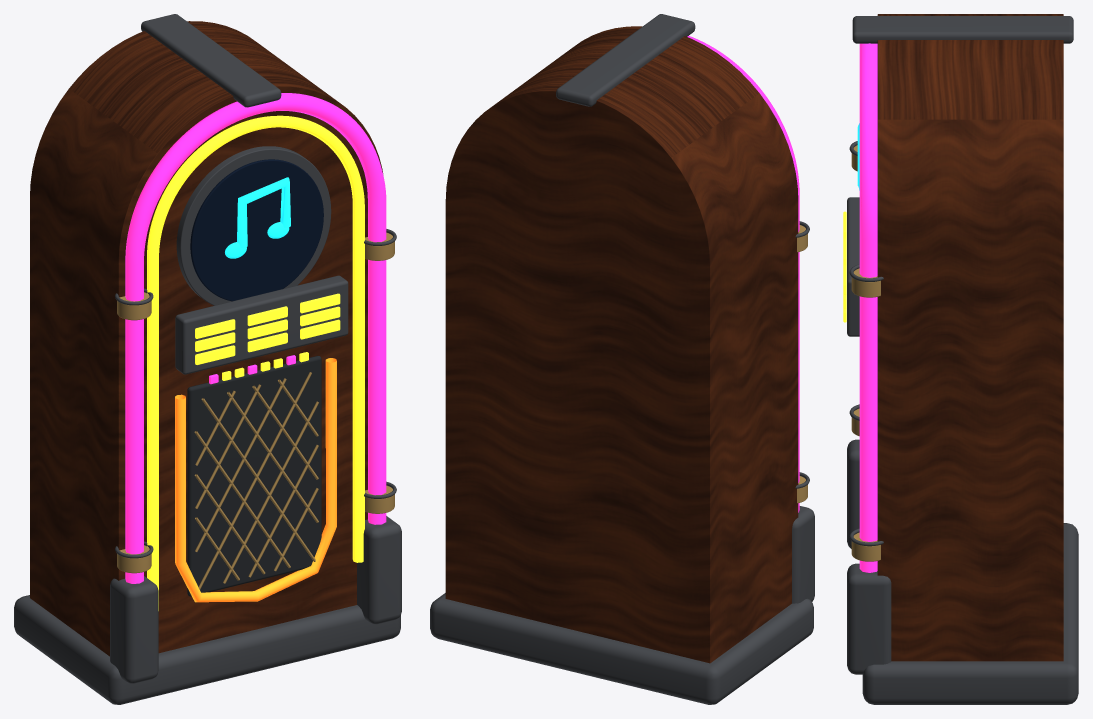
Rendered from estacoes_jukebox.glb.
The picture shows the model from 3 angles, left to right: view 1: azimuth 30°, elevation 25°; view 2: azimuth 150°, elevation 25°; view 3: azimuth 270°, elevation 25°; orthographic projection. The views are drawn at different scales.
Visible parts, largest first — view 1: jukebox; view 2: jukebox; view 3: jukebox.
Boxes of the visible parts, x1,y1,x2,y2 form: jukebox: [14, 14, 401, 704]; jukebox: [430, 14, 814, 704]; jukebox: [843, 14, 1078, 704].
Size of the model in its own units: 0.7 by 1.34 by 0.4685.
Materials: 9 (1 with a texture image).
